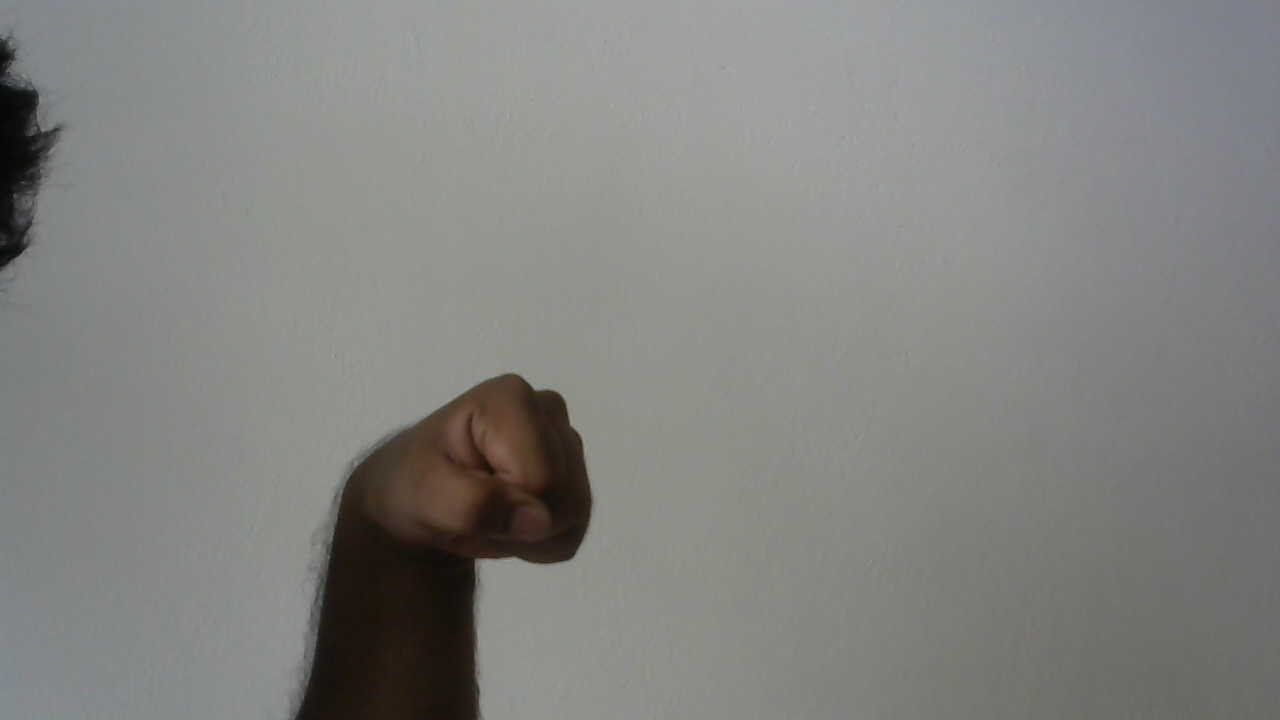yes: (310, 357, 624, 630)
